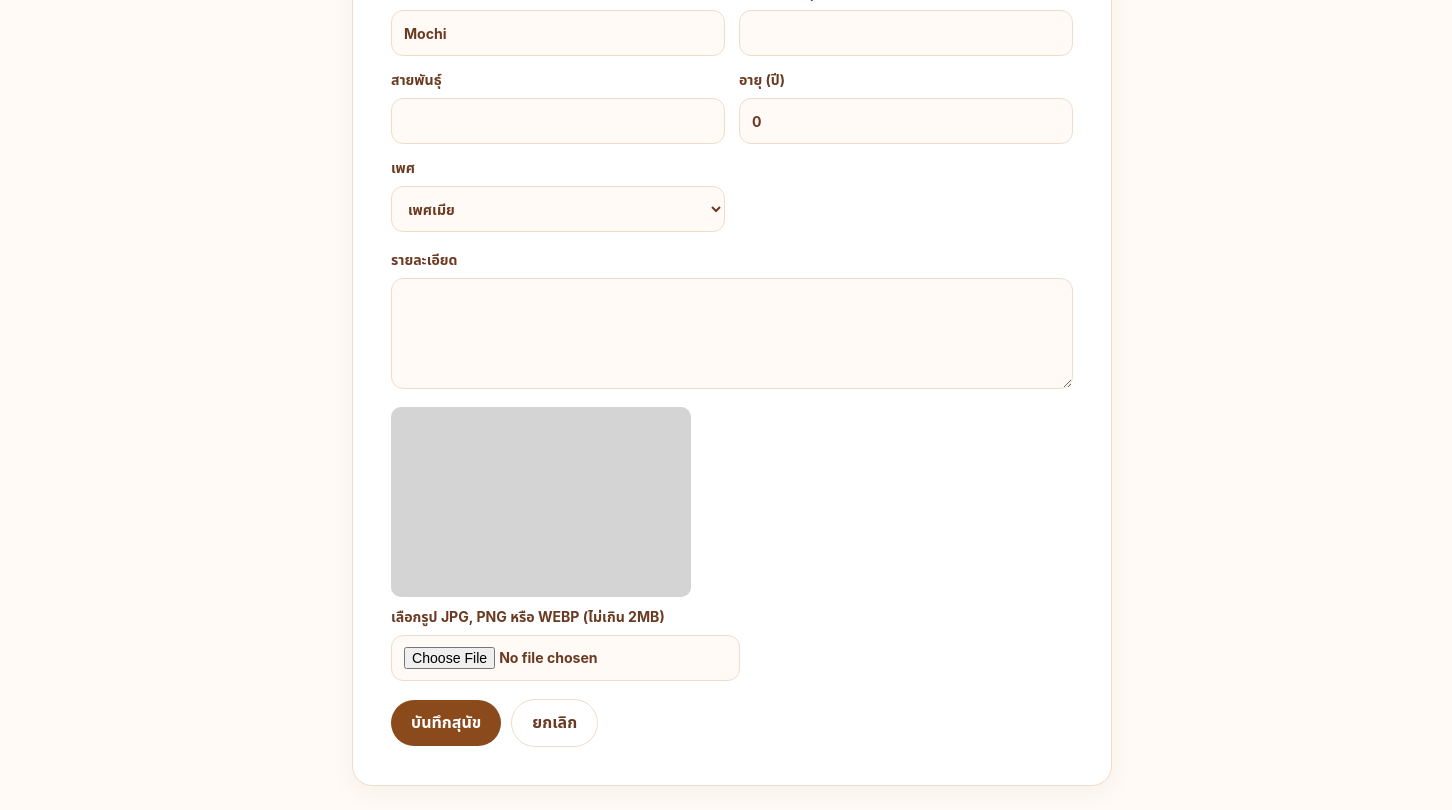
Test: DogFormPage › accepts an image file and saves it in image_url
This screenshot has width=1452, height=810.
Earlier steps of the test are not shown.
(page scrolled)
Click the button "บันทึกสุนัข": (446, 723) [391,700,501,746]
(page scrolled)
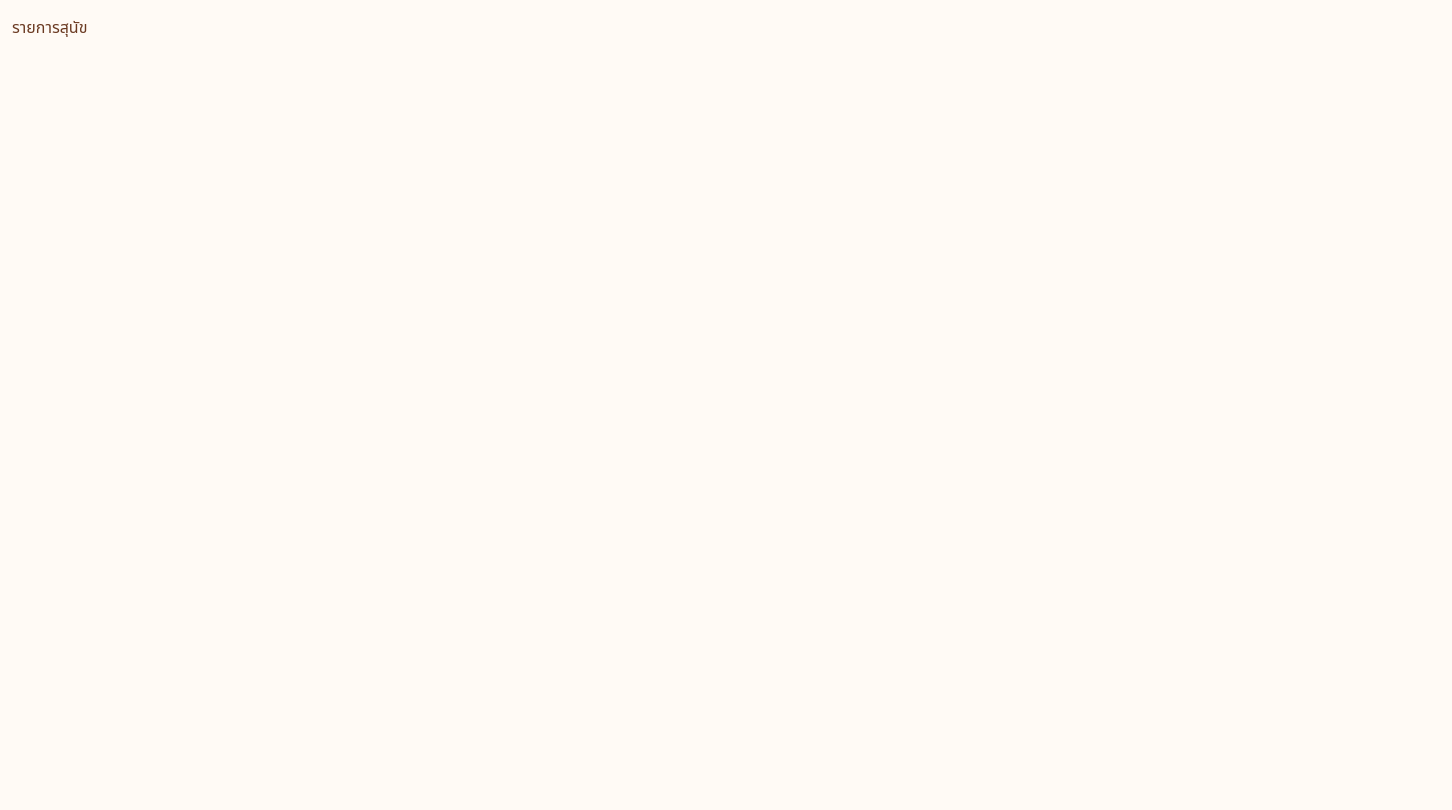
Check: the text "รายการสุนัข" is shown, box [12,17,87,37]
